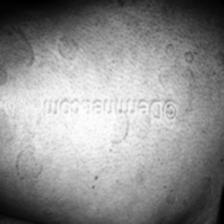Toxin: (0, 29, 31, 79), (18, 144, 46, 180)
